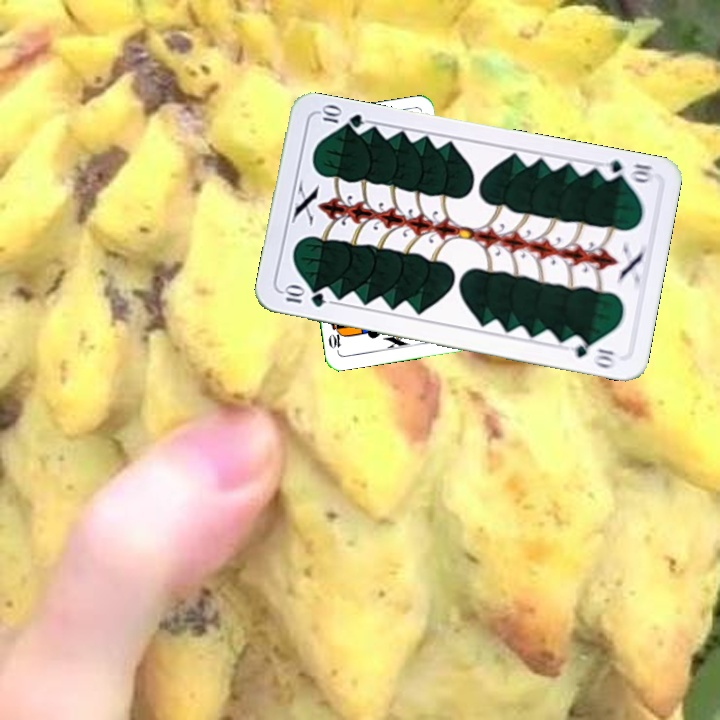G10: (596, 156, 656, 186), (279, 283, 329, 310)
